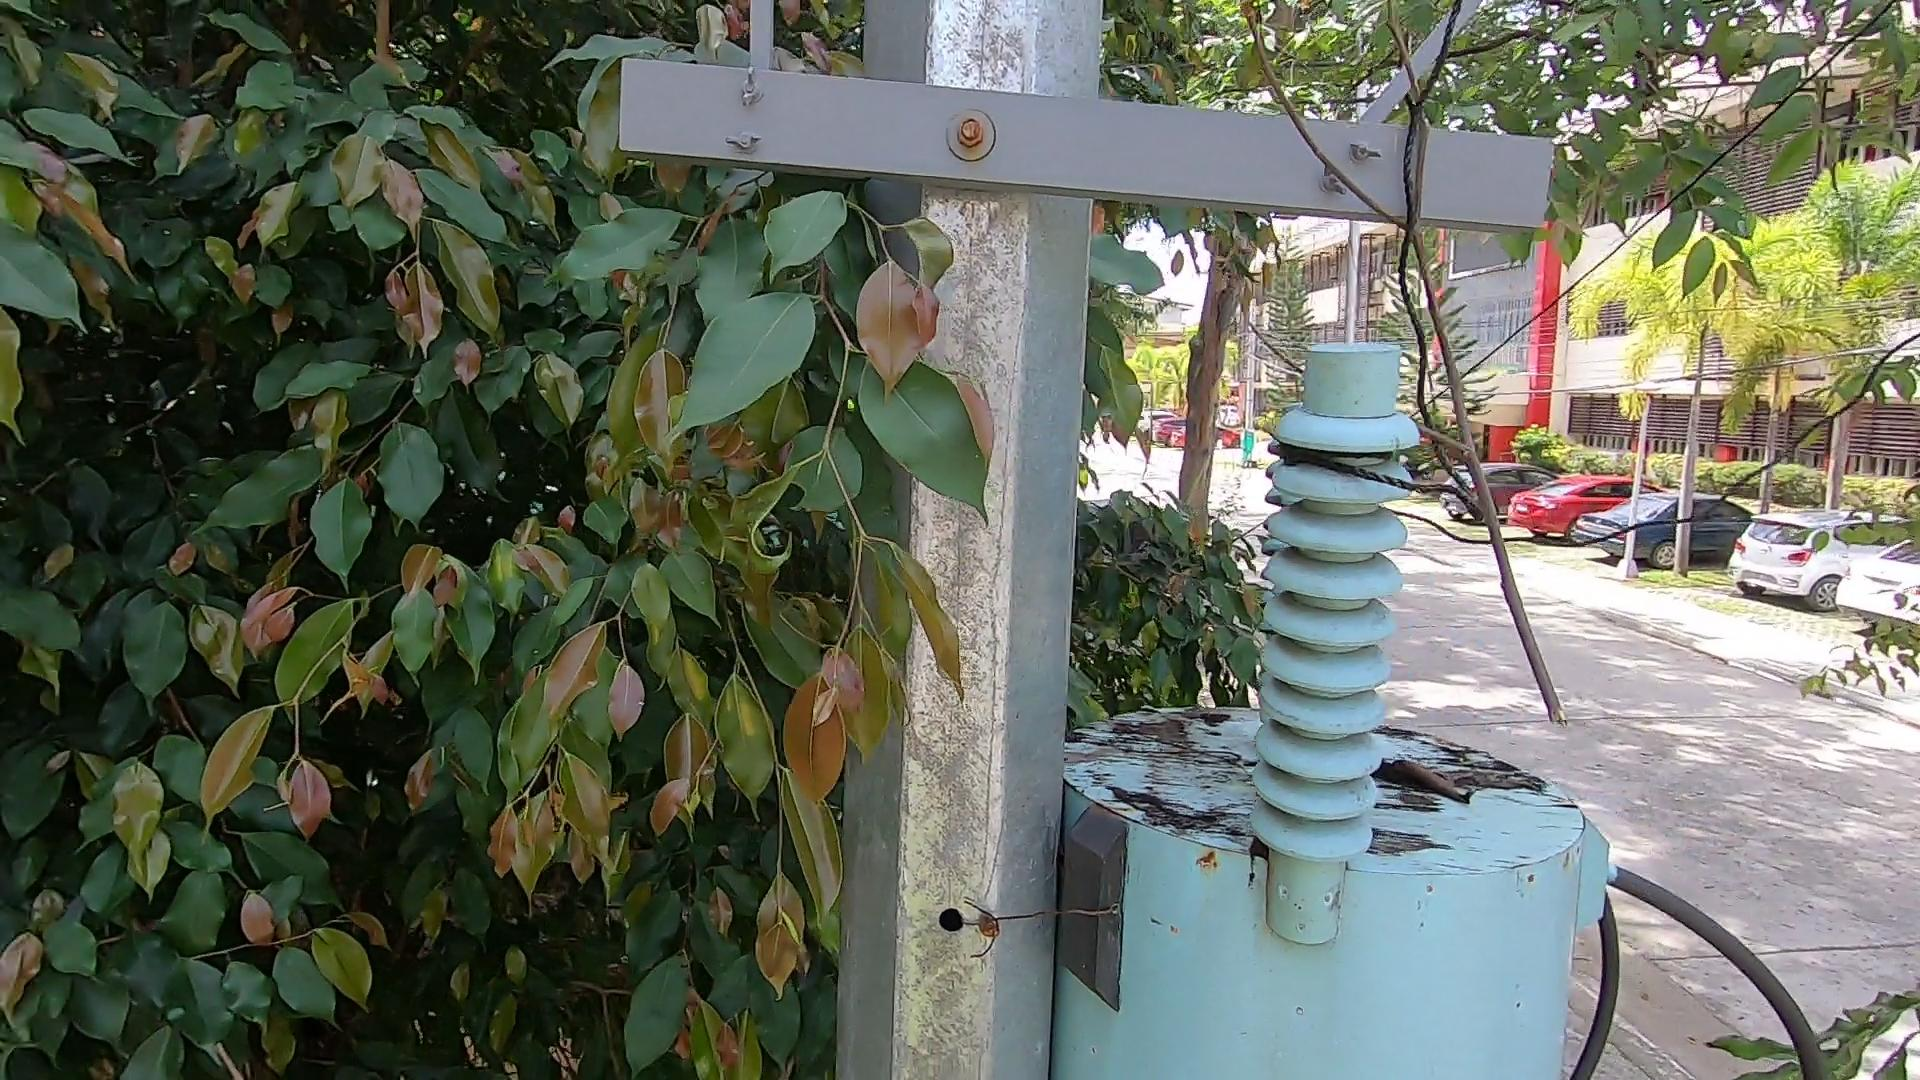leaf: (1367, 738, 1477, 812)
tree branch: (1218, 5, 1600, 735)
